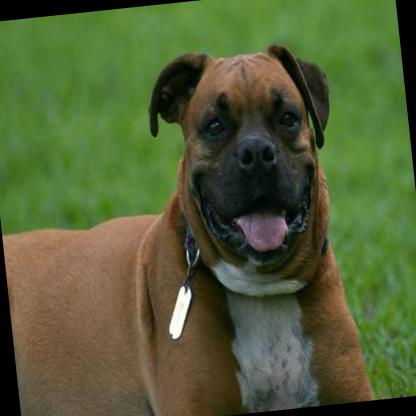boxer: (0, 32, 375, 416)
